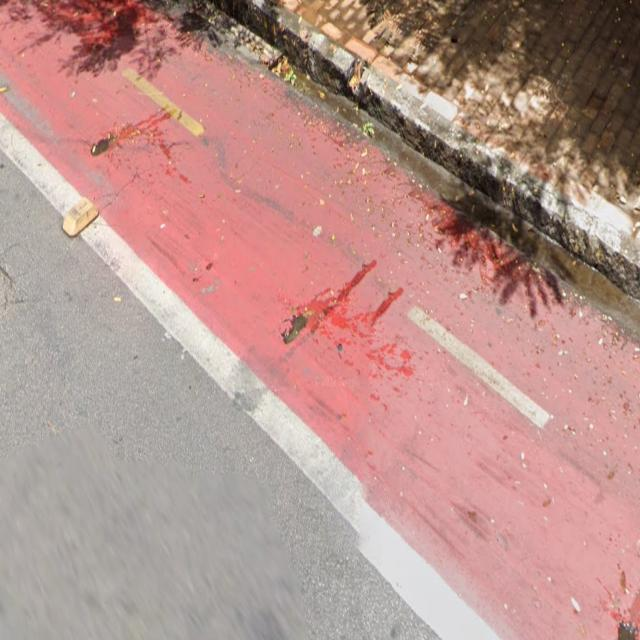Buraco: (80, 68, 142, 176), (279, 285, 330, 369), (602, 604, 640, 639)
